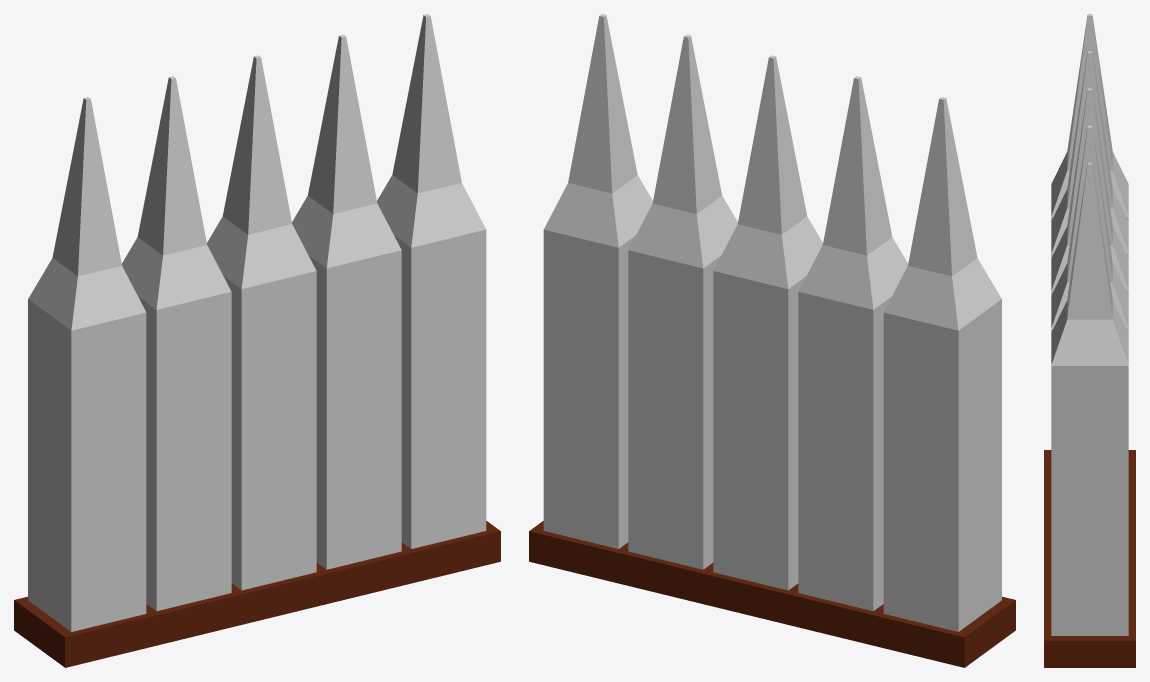
Rendered from clip.fbx.
3 views of the same model, side by side, from view 1: azimuth 30°, elevation 25°; view 2: azimuth 150°, elevation 25°; view 3: azimuth 270°, elevation 25° (orthographic). The views are drawn at different scales.
Visible parts, largest first — view 1: Cube.004, Cube.003, Cube, Cube.001, Cube.002, Cube.005; view 2: Cube.004, Cube.003, Cube, Cube.001, Cube.002, Cube.005; view 3: Cube.002, Cube.005, Cube, Cube.003, Cube.004, Cube.001.
Part boxes in pixels (box(x1,y1,x2,y2)): Cube.004: box(28, 97, 146, 631); Cube.003: box(122, 76, 231, 611); Cube: box(207, 55, 316, 590); Cube.001: box(292, 34, 401, 569); Cube.002: box(377, 14, 486, 548); Cube.005: box(14, 521, 500, 667); Cube.004: box(883, 97, 1001, 631); Cube.003: box(798, 76, 907, 611); Cube: box(713, 55, 822, 590); Cube.001: box(628, 34, 737, 569); Cube.002: box(543, 14, 652, 548); Cube.005: box(529, 521, 1015, 667); Cube.002: box(1051, 162, 1128, 635); Cube.005: box(1044, 450, 1135, 667); Cube: box(1051, 88, 1128, 294); Cube.003: box(1051, 51, 1128, 257); Cube.004: box(1051, 14, 1128, 220); Cube.001: box(1051, 125, 1128, 331).
Bounding box in the file's own units: 511 × 605 × 104.
